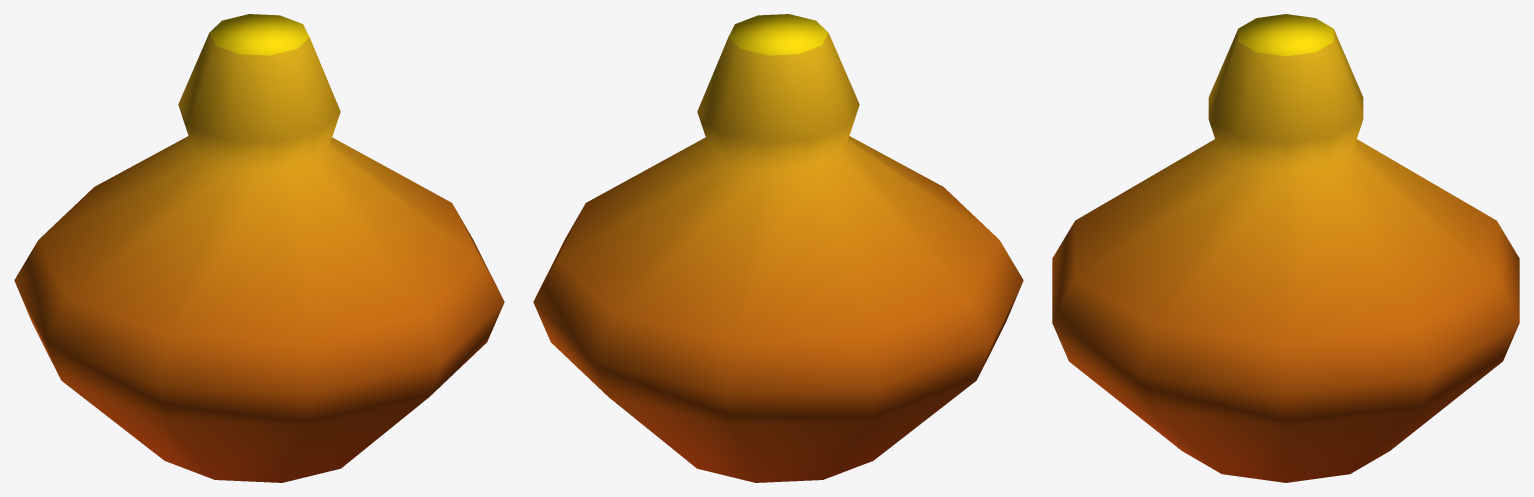
Rendered from Potion_C_L_Liquid.fbx.
The picture shows the model from 3 angles, left to right: view 1: azimuth 30°, elevation 25°; view 2: azimuth 150°, elevation 25°; view 3: azimuth 270°, elevation 25°; orthographic projection.
Visible parts, largest first — view 1: Potion_C_L_Liquid; view 2: Potion_C_L_Liquid; view 3: Potion_C_L_Liquid.
Part boxes in pixels (box(x1,y1,x2,y2)): Potion_C_L_Liquid: box(14, 14, 504, 482); Potion_C_L_Liquid: box(533, 14, 1023, 482); Potion_C_L_Liquid: box(1052, 14, 1519, 482).
Bounding box in the file's own units: 59.91 × 54.01 × 56.98.
1 material, 1 textured.
